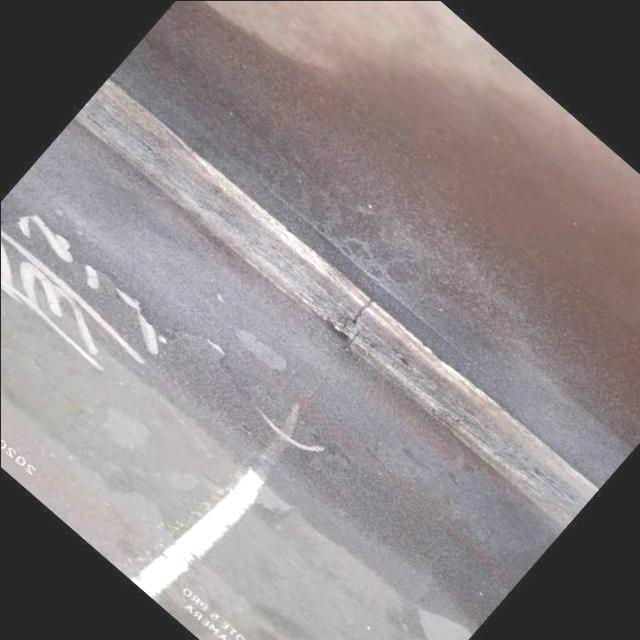defect: (336, 293, 377, 328)
